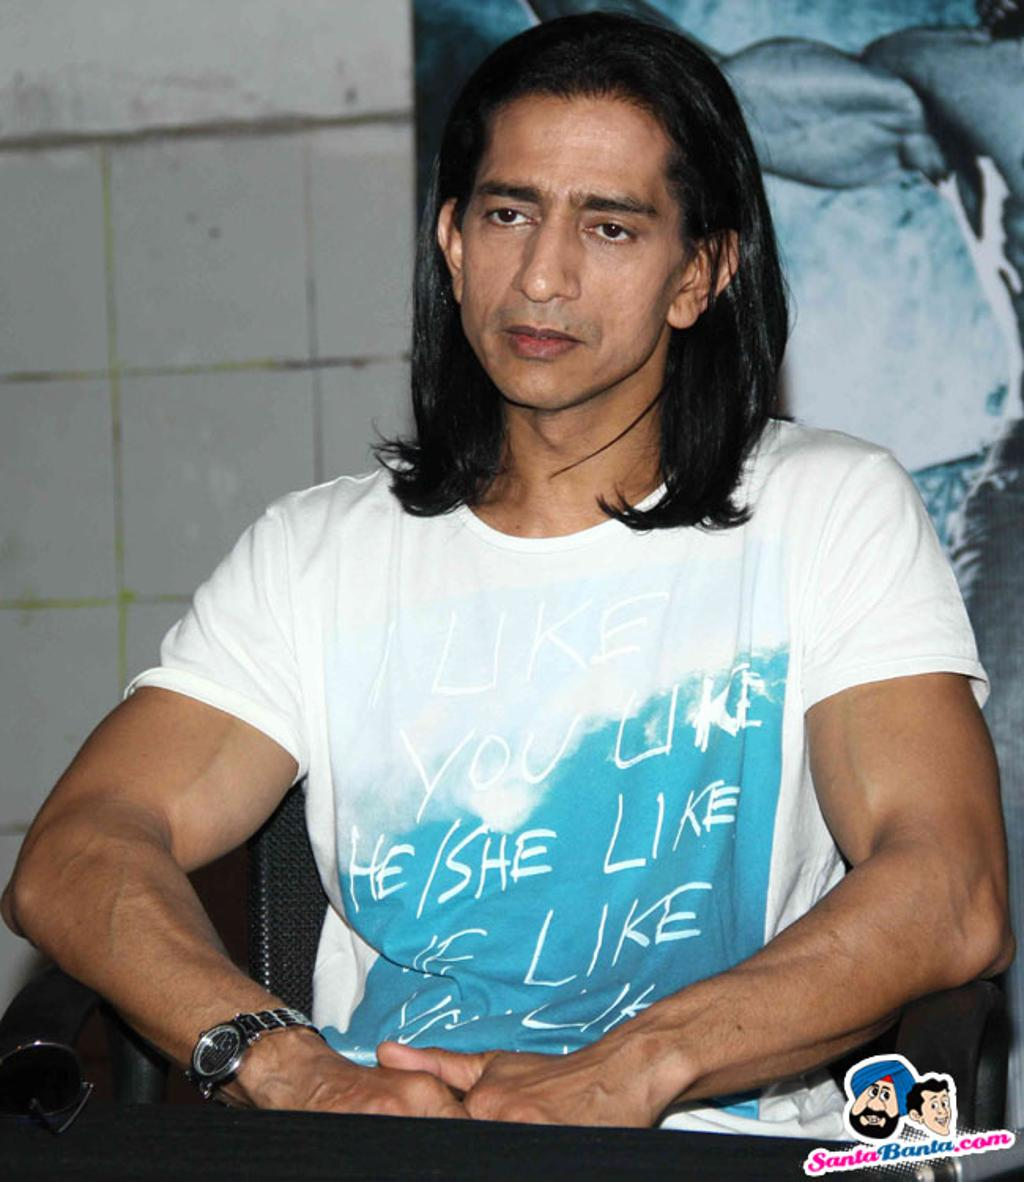face: (464, 92, 669, 408)
